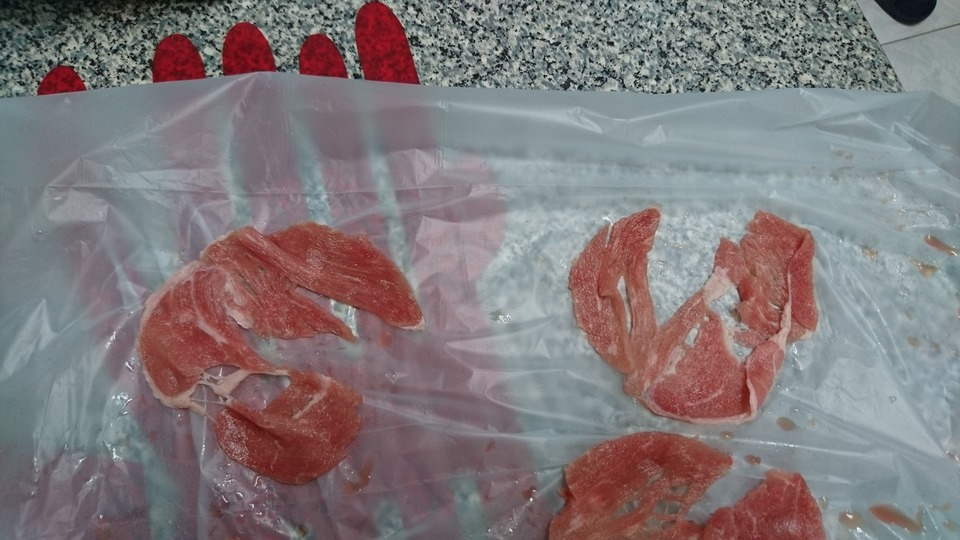restructured meat: (131, 184, 432, 483), (566, 189, 818, 426), (534, 439, 834, 540)
